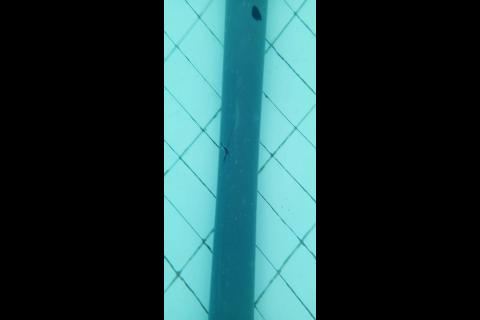kebocoran: (250, 2, 263, 23)
keretakan: (221, 133, 231, 165)
